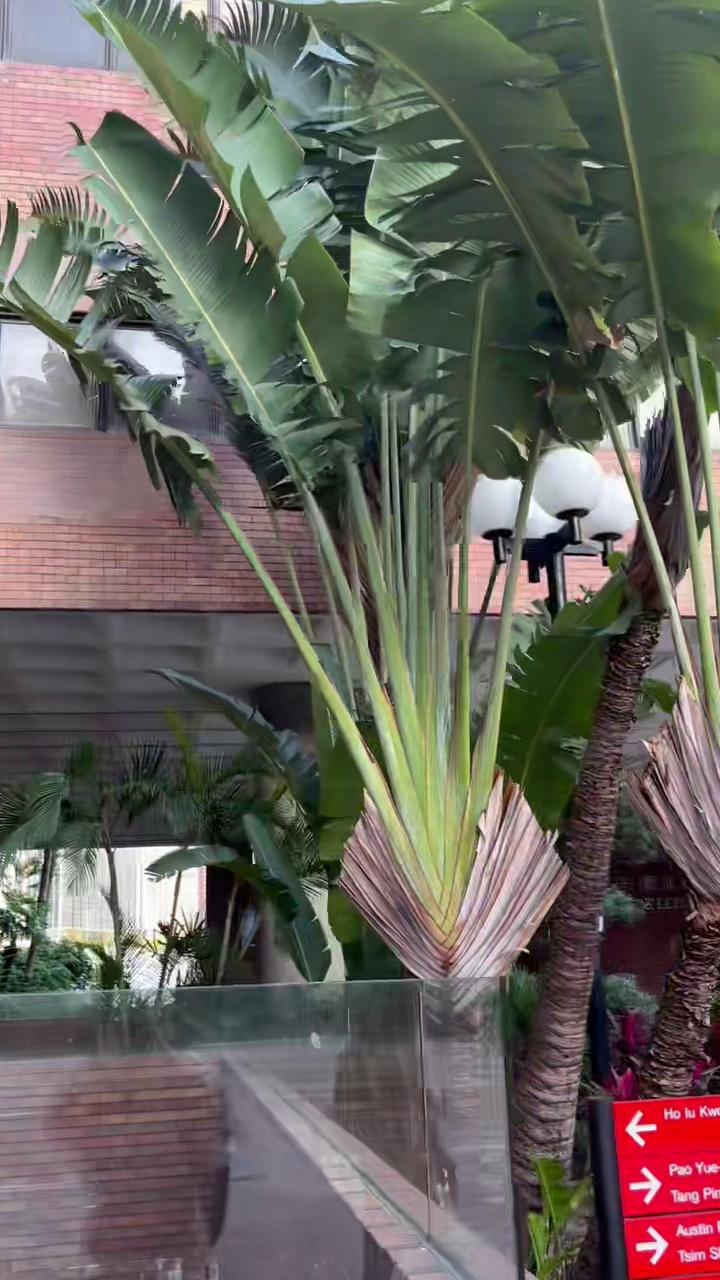Travellers-tree: (75, 0, 646, 980)
